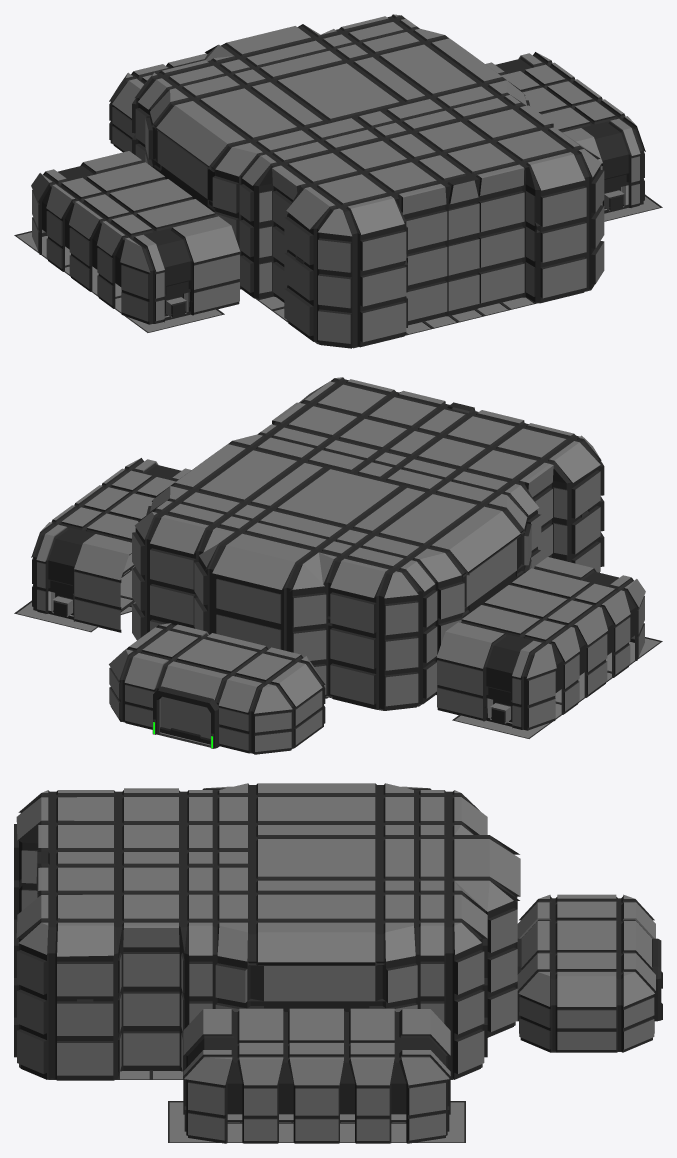
Rendered from stageFactory.glb.
3 renders of one model, top to bottom at view 1: azimuth 30°, elevation 25°; view 2: azimuth 150°, elevation 25°; view 3: azimuth 270°, elevation 25°, orthographic. The views are drawn at different scales.
Parts seen in each view (by area): view 1: Floor_Square_Large.004; view 2: Floor_Square_Large.004; view 3: Floor_Square_Large.004.
Boxes of the visible parts, x1,y1,x2,y2 form: Floor_Square_Large.004: (14, 14, 662, 348); Floor_Square_Large.004: (14, 377, 662, 754); Floor_Square_Large.004: (14, 783, 662, 1143).
Size of what is drawn, in the model's own units: 40.31 by 9.76 by 39.2.
1 material, 1 textured.
